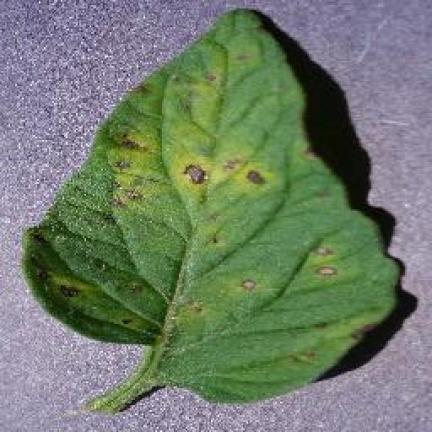disease: (24, 10, 395, 410)
leaf: (170, 74, 179, 81)
